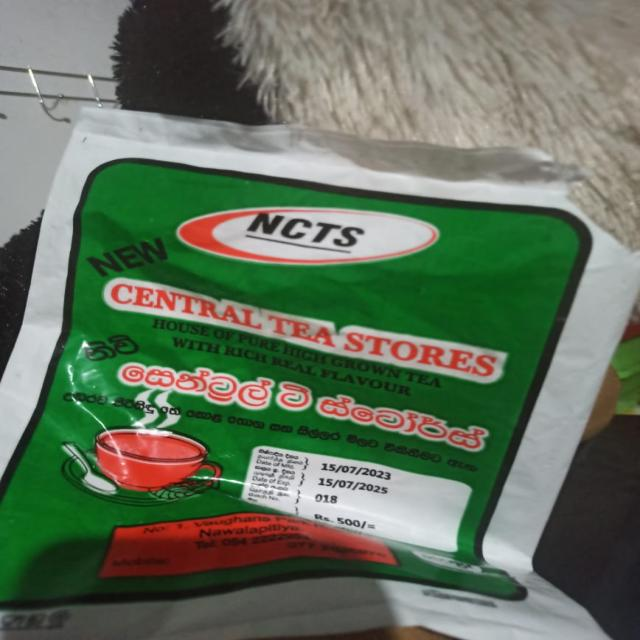Central Tea: (10, 94, 595, 640)
